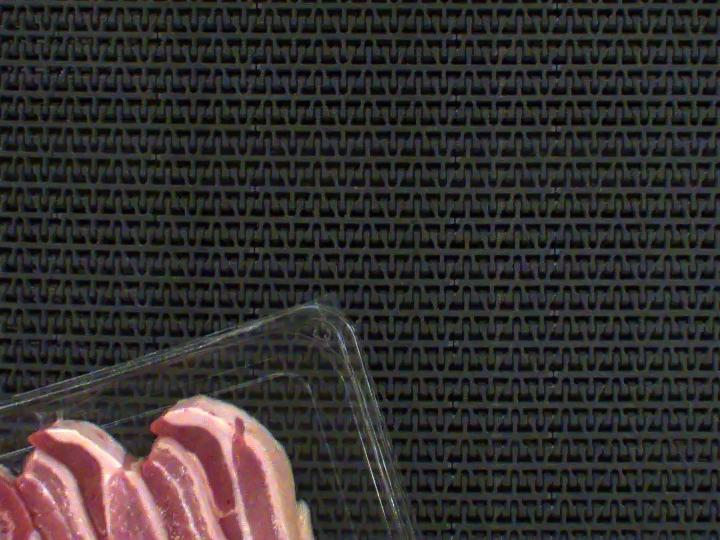packaging-error: (29, 410, 74, 430)
